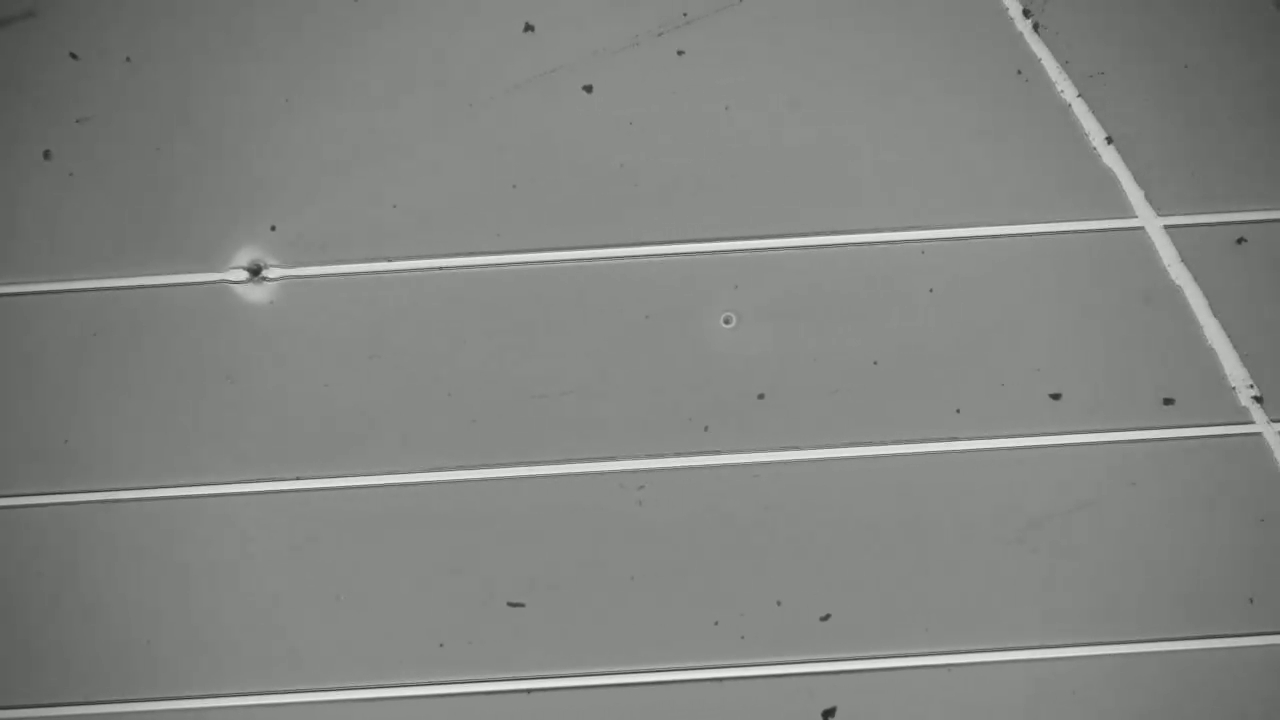stains_enbedded: (225, 252, 288, 303)
